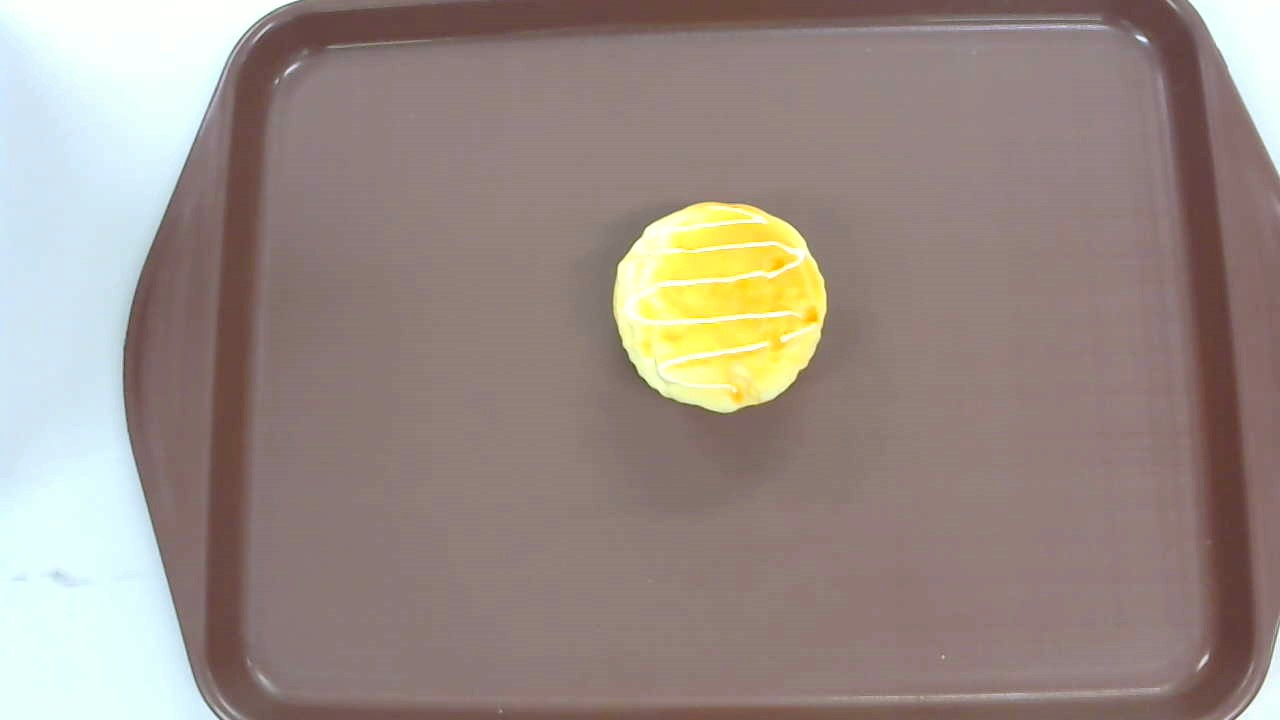cupcake: (612, 200, 828, 415)
